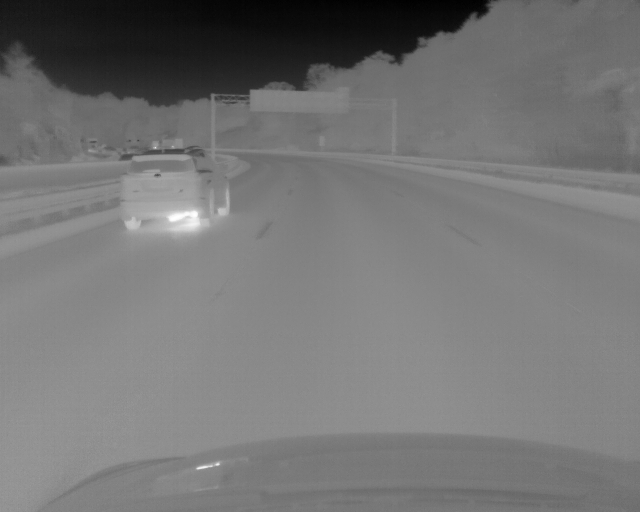car: (121, 147, 234, 233)
